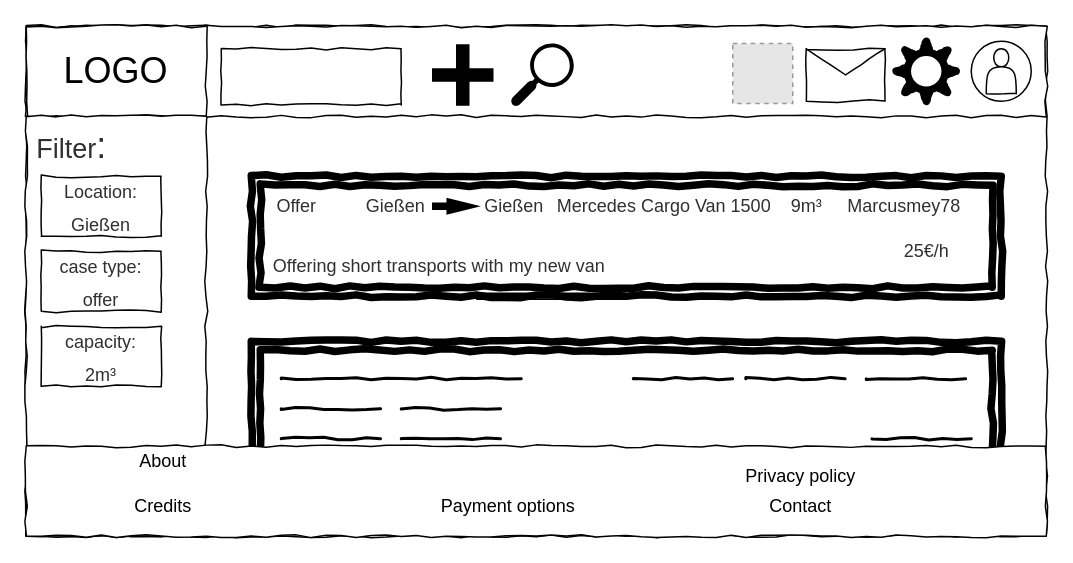
Image size: 1073x563. Some labels were removed from this diagram. Grey dashed boxes stand in for pictures. Here are the shapes that lost their labels. From the top down, the centre of each, then its label:
At point (310, 76): "My Cases".
At point (625, 400): "Customer Service".
